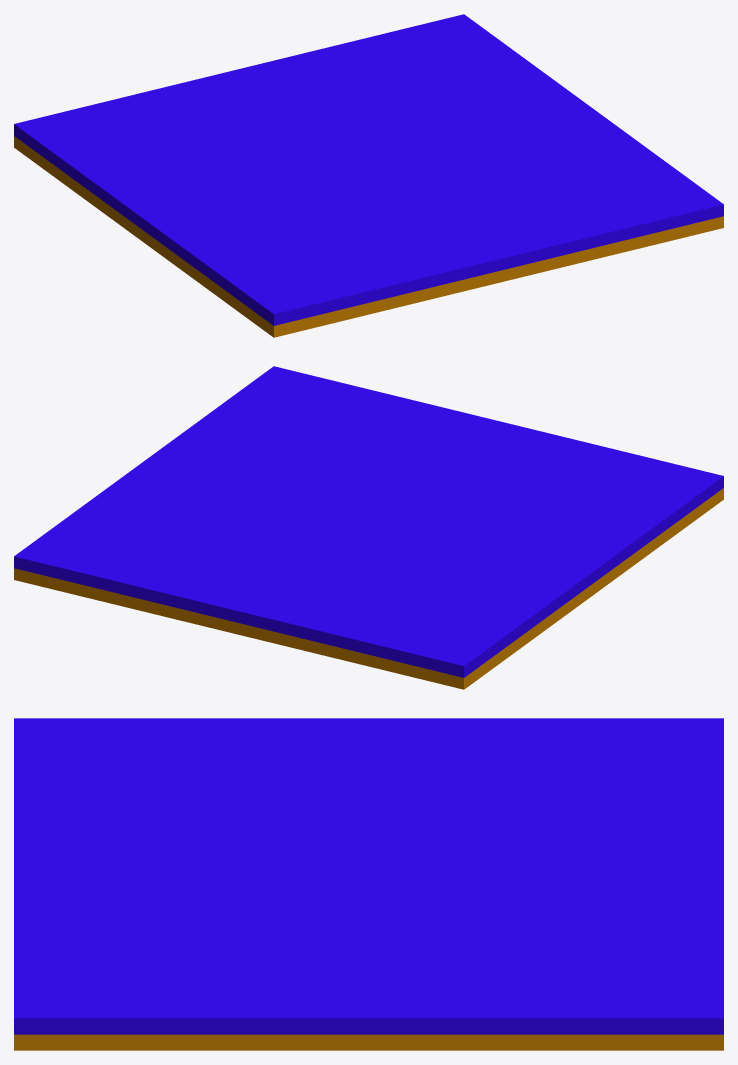
Rendered from FloorX4.FBX.
3 renders of one model, top to bottom at view 1: azimuth 30°, elevation 25°; view 2: azimuth 150°, elevation 25°; view 3: azimuth 270°, elevation 25°, orthographic. The views are drawn at different scales.
Visible parts, largest first — view 1: ModularFloor; view 2: ModularFloor; view 3: ModularFloor.
Part boxes in pixels (bbox=[...]): ModularFloor: bbox=[14, 14, 723, 337]; ModularFloor: bbox=[14, 366, 723, 689]; ModularFloor: bbox=[14, 718, 723, 1050].
Bounding box in the file's own units: 200 × 10 × 200.
